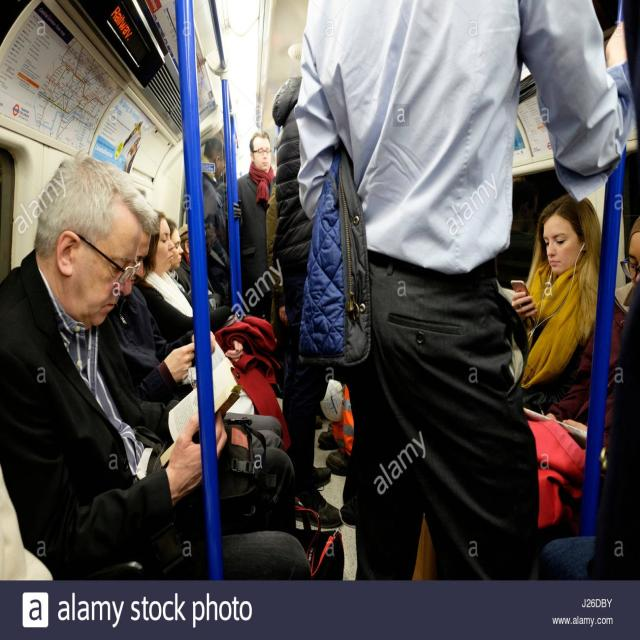body: (296, 0, 622, 579), (0, 152, 309, 580), (104, 179, 286, 451), (511, 192, 629, 552), (521, 215, 640, 541), (271, 75, 342, 524), (165, 216, 292, 455), (539, 296, 640, 580), (166, 206, 244, 334), (311, 332, 363, 501), (233, 130, 276, 323), (202, 136, 242, 306)
